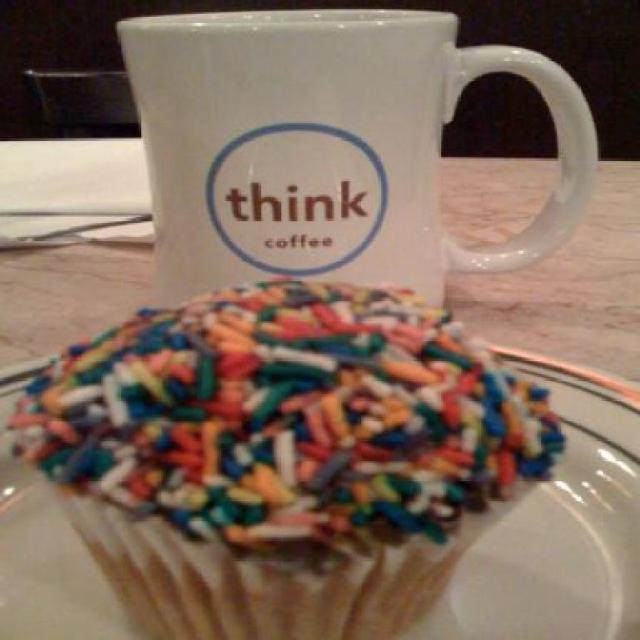Candy: (72, 290, 556, 588)
